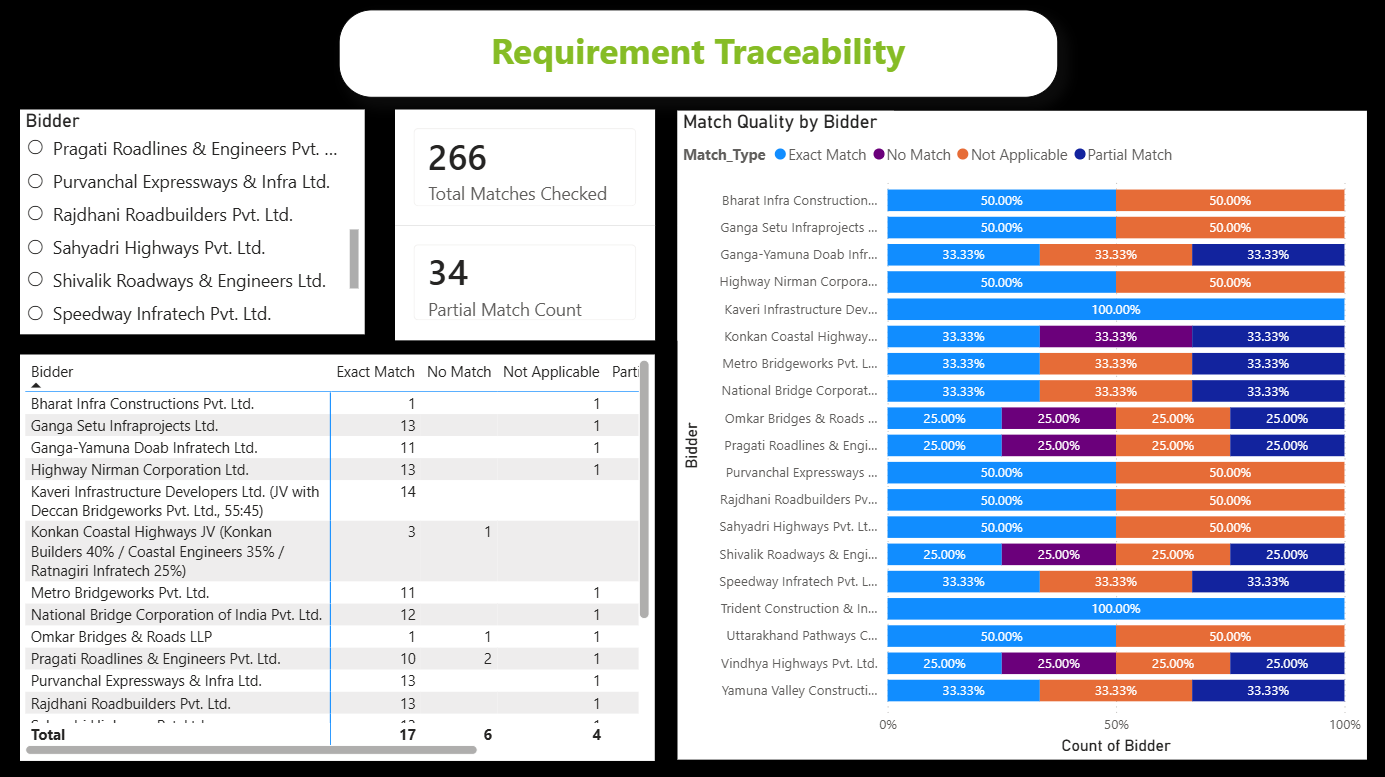

What the dashboard file says about the page in this screenshot:
{"tool":"powerbi","page":{"name":"Requirement Traceability","canvas":[1280,720],"ordinal":4},"visuals":[{"type":"textbox","box":[320.7,11.2,652.5,79.8],"z":0},{"type":"listSlicer","fields":{"Values":["Bidder_Status.Bidder"]},"box":[31.9,102.1,312.7,204.2],"z":1000},{"type":"cardVisual","fields":{"Data":["01_Matching.Total Matches Checked"]},"box":[371.7,102.1,236.1,105.3],"z":2000},{"type":"cardVisual","fields":{"Data":["01_Matching.Exact Match Count"]},"box":[628.6,103.7,196.2,103.7],"z":3000},{"type":"cardVisual","fields":{"Data":["01_Matching.Partial Match Count"]},"box":[371.7,207.4,236.1,103.7],"z":4000},{"type":"cardVisual","fields":{"Data":["01_Matching.No Match Count"]},"box":[628.6,207.4,196.2,103.7],"z":5000},{"type":"pivotTable","fields":{"Columns":["01_Matching.Match_Type"],"Rows":["Bidder_Status.Bidder"],"Values":["Count(01_Matching.Requirement_ID)"]},"box":[31.9,323.9,575.9,368.5],"z":6000},{"type":"hundredPercentStackedBarChart","title":"Match Quality by Bidder","fields":{"Category":["Bidder_Status.Bidder"],"Series":["01_Matching.Match_Type"],"Y":["CountNonNull(Bidder_Status.Bidder)"]},"box":[628.6,103.7,625.4,588.7],"z":7000}]}

Visuals, with their boxes in screenshot pixels (x1, y1, x2, y2), scaled from the page's 1280x720 canvas onto the 1385x777 screenshot:
textbox: left=347, top=12, right=1053, bottom=98
listSlicer - Bidder_Status.Bidder: left=35, top=110, right=373, bottom=331
cardVisual - 01_Matching.Total Matches Checked: left=402, top=110, right=658, bottom=224
cardVisual - 01_Matching.Exact Match Count: left=680, top=112, right=892, bottom=224
cardVisual - 01_Matching.Partial Match Count: left=402, top=224, right=658, bottom=336
cardVisual - 01_Matching.No Match Count: left=680, top=224, right=892, bottom=336
pivotTable - 01_Matching.Match_Type x Bidder_Status.Bidder: left=35, top=350, right=658, bottom=747
"Match Quality by Bidder" hundredPercentStackedBarChart: left=680, top=112, right=1357, bottom=747
